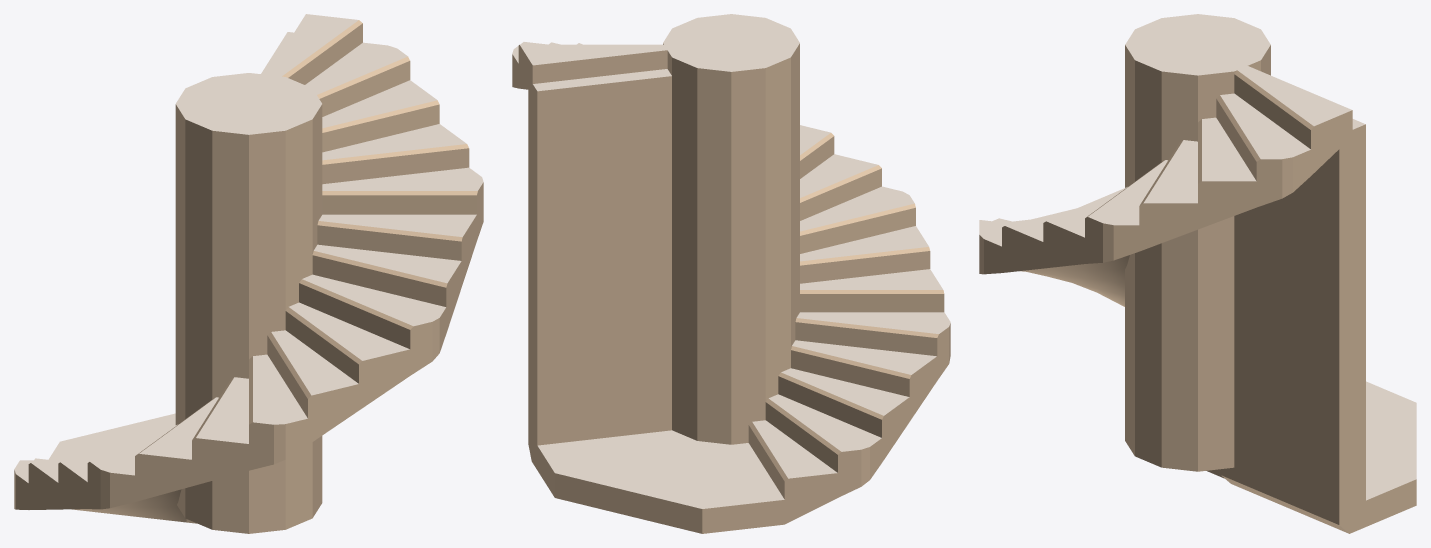
Rendered from Tower_Bottom.fbx.
3 renders of one model, left to right at view 1: azimuth 30°, elevation 25°; view 2: azimuth 150°, elevation 25°; view 3: azimuth 270°, elevation 25°, orthographic. The views are drawn at different scales.
Visible parts, largest first — view 1: Sandstone_Trim.Sandstone_Trim.Sandstone_Trim.Sandstone_Trim., Sandstone_Trim.object2, Sandstone_Floor.Sandstone_Floor.Sandstone_Floor.Sandstone_Fl, Sandstone_Floor (×2); view 2: Sandstone_Trim.object1, Sandstone_Trim.object2, Sandstone_Trim.Sandstone_Trim.Sandstone_Trim.Sandstone_Trim., Sandstone_Floor.Sandstone_Floor.Sandstone_Floor.Sandstone_Fl, Sandstone_Floor (×3), Sandstone_Trim.object3; view 3: Sandstone_Trim.object1, Sandstone_Trim.object2, Sandstone_Trim.Sandstone_Trim.Sandstone_Trim.Sandstone_Trim., Sandstone_Floor.Sandstone_Floor.Sandstone_Floor.Sandstone_Fl, Sandstone_Floor (×2), Sandstone_Trim.object3.
Boxes of the visible parts, x1,y1,x2,y2 form: Sandstone_Trim.Sandstone_Trim.Sandstone_Trim.Sandstone_Trim.: (14,20,483,522); Sandstone_Trim.object2: (175,104,322,533); Sandstone_Floor.Sandstone_Floor.Sandstone_Floor.Sandstone_Fl: (14,14,483,482); Sandstone_Floor (×2): (48,73,321,460); Sandstone_Trim.object1: (528,76,671,469); Sandstone_Trim.object2: (663,43,799,444); Sandstone_Trim.Sandstone_Trim.Sandstone_Trim.Sandstone_Trim.: (512,45,950,524); Sandstone_Floor.Sandstone_Floor.Sandstone_Floor.Sandstone_Fl: (512,42,950,478); Sandstone_Floor (×3): (533,14,799,508); Sandstone_Trim.object3: (537,446,784,533); Sandstone_Trim.object1: (1220,124,1365,533); Sandstone_Trim.object2: (1125,45,1270,471); Sandstone_Trim.Sandstone_Trim.Sandstone_Trim.Sandstone_Trim.: (979,70,1352,306); Sandstone_Floor.Sandstone_Floor.Sandstone_Floor.Sandstone_Fl: (979,64,1351,246); Sandstone_Floor (×2): (1125,14,1416,500); Sandstone_Trim.object3: (1206,469,1416,532).
Size of the model in its own units: 3 by 3.2 by 3.
